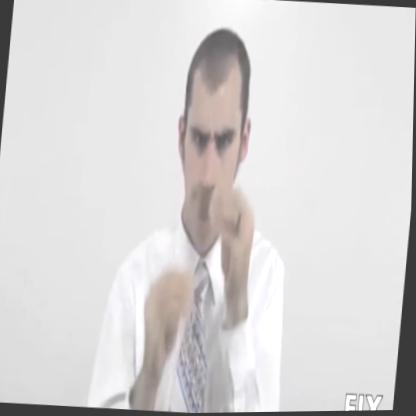Fix: (137, 173, 266, 385)
